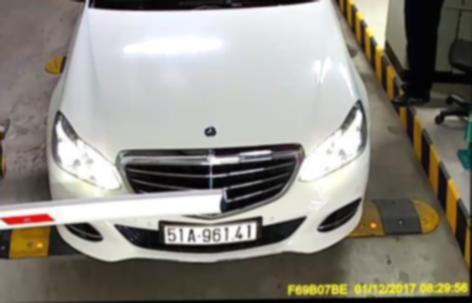License_Plate: (155, 217, 263, 247)
